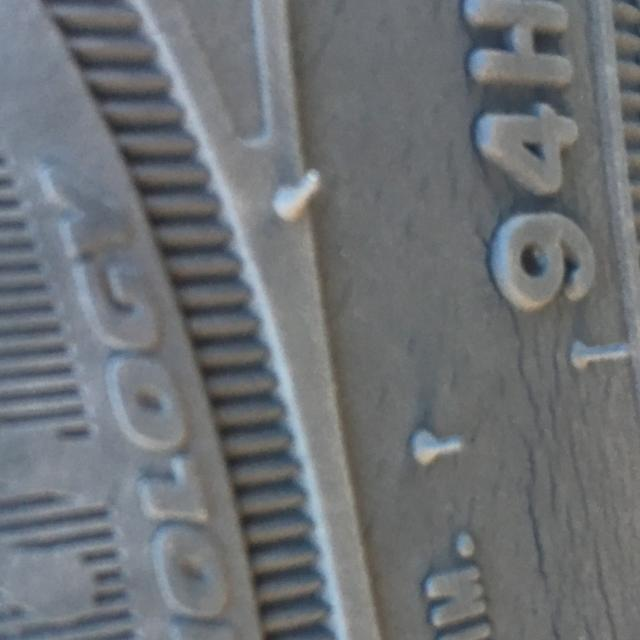Cracks: (448, 90, 640, 640)
